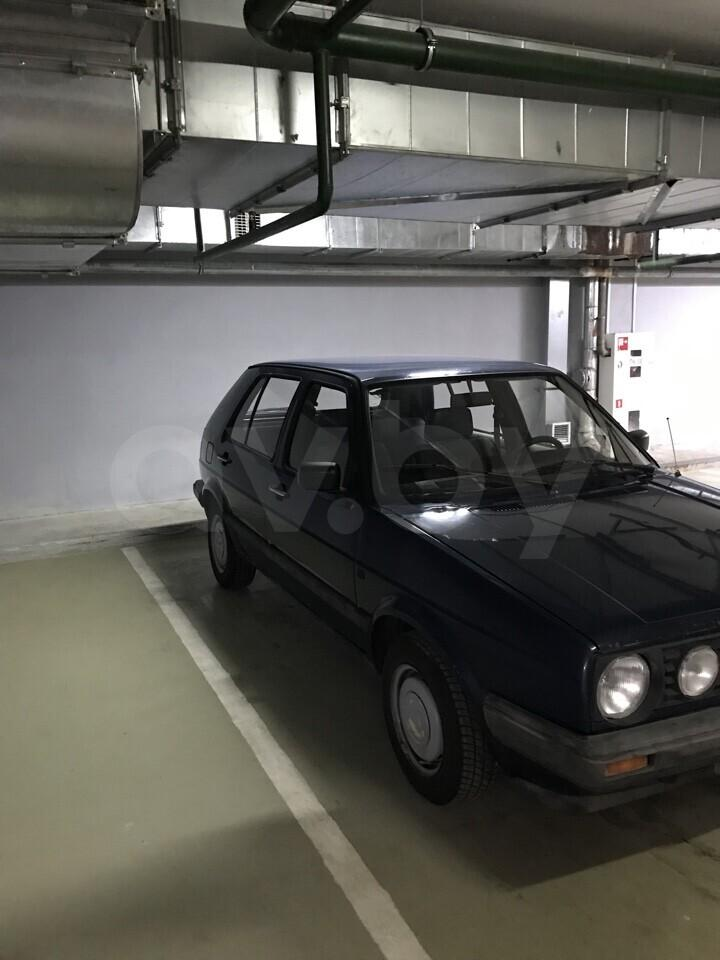Golf_1983-1992: (188, 353, 720, 816)
